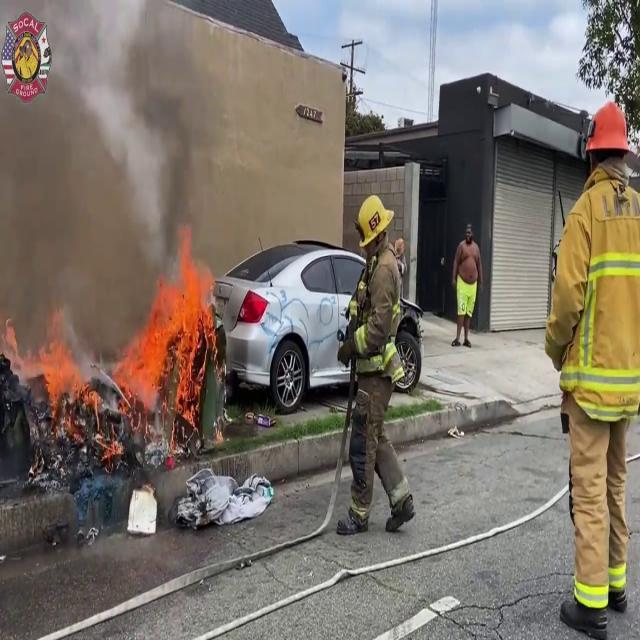Fire: (123, 238, 217, 430), (28, 324, 88, 421)
Smoke: (1, 1, 230, 337)
